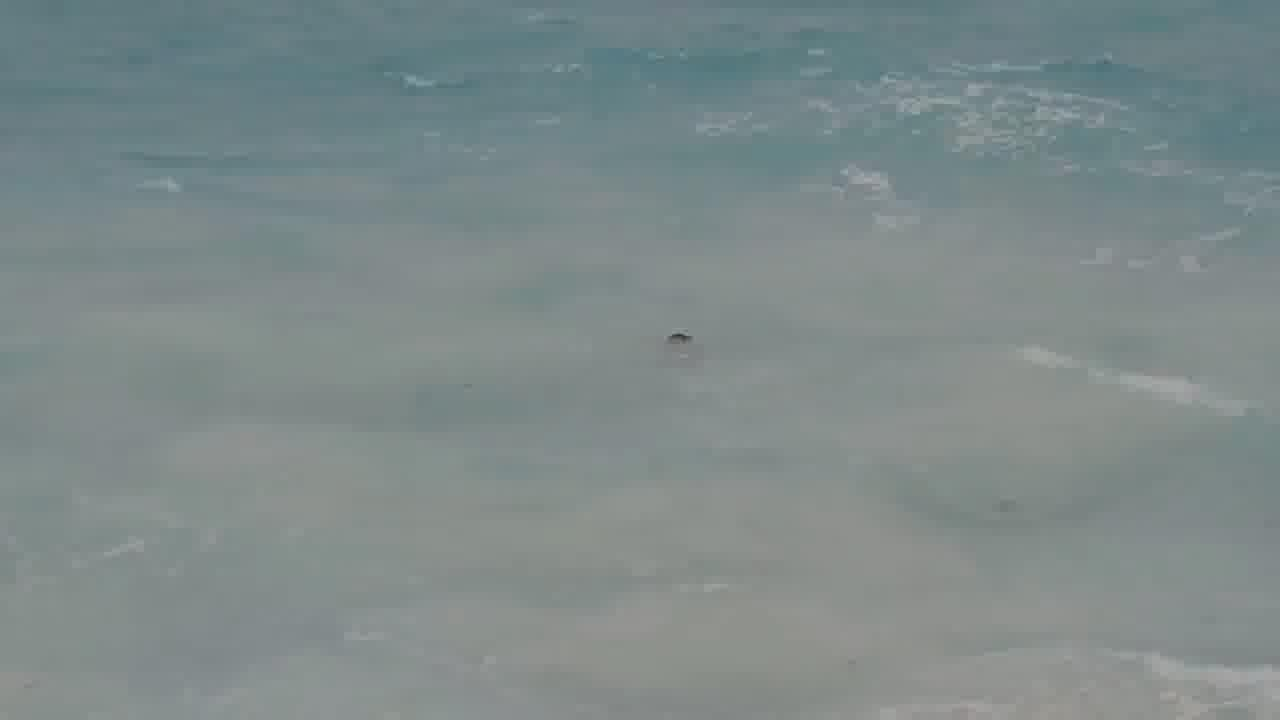human: (651, 320, 700, 350)
